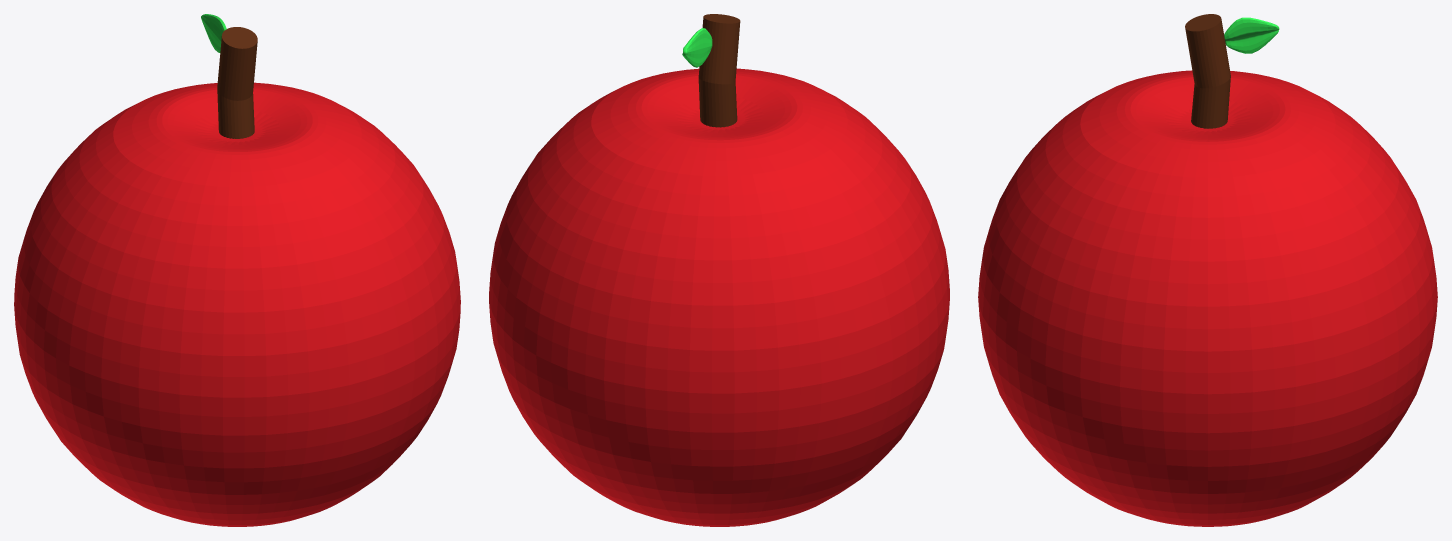
File: Apple _Subdivided.fbx
The picture shows the model from 3 angles, left to right: view 1: azimuth 30°, elevation 25°; view 2: azimuth 150°, elevation 25°; view 3: azimuth 270°, elevation 25°; orthographic projection. The views are drawn at different scales.
Parts seen in each view (by area): view 1: Sphere, Cylinder, Cube; view 2: Sphere, Cylinder, Cube; view 3: Sphere, Cylinder, Cube.
Part boxes in pixels (x1=…): Sphere: x1=14, y1=82, x2=460, y2=526; Cylinder: x1=217, y1=27, x2=257, y2=138; Cube: x1=201, y1=14, x2=226, y2=52; Sphere: x1=489, y1=68, x2=949, y2=526; Cylinder: x1=698, y1=14, x2=740, y2=127; Cube: x1=682, y1=28, x2=712, y2=67; Sphere: x1=978, y1=70, x2=1437, y2=526; Cylinder: x1=1185, y1=14, x2=1230, y2=128; Cube: x1=1224, y1=17, x2=1279, y2=53.
Bounding box in the file's own units: 198 × 229 × 198.
Materials: 3 (1 with a texture image).
